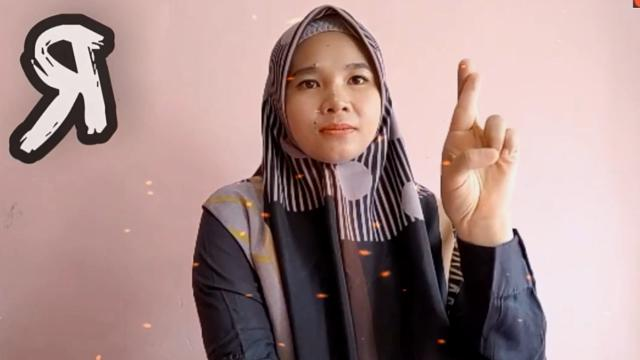R: (430, 54, 524, 226)
